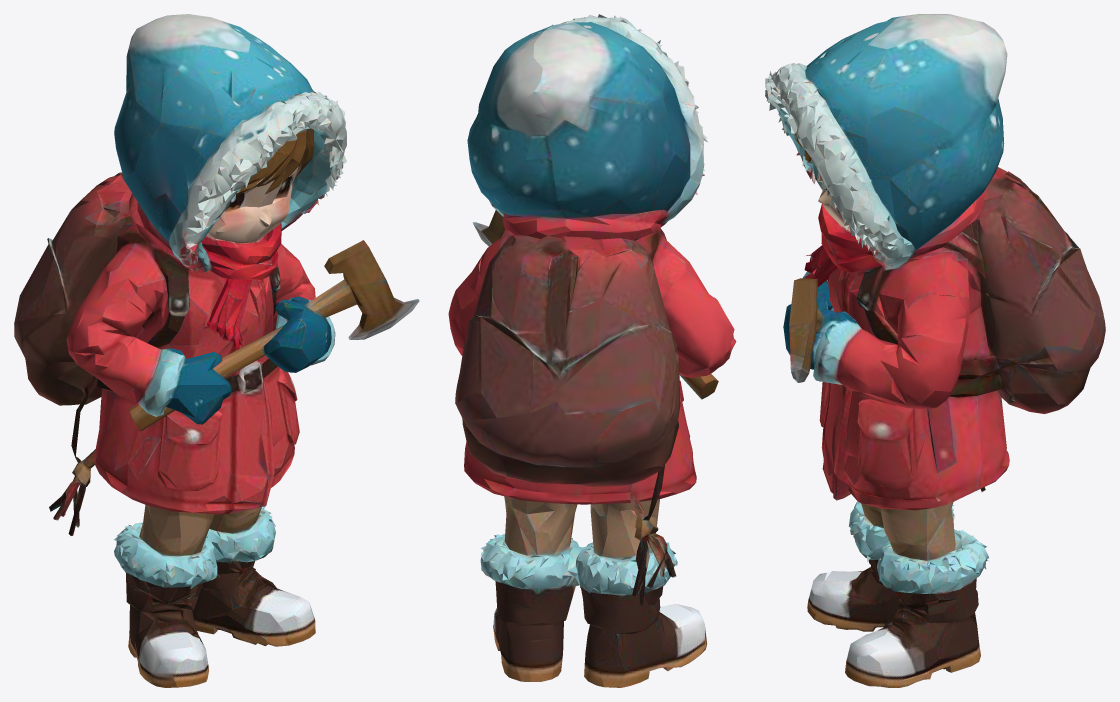
Rendered from hero.glb.
3 renders of one model, left to right at view 1: azimuth 30°, elevation 25°; view 2: azimuth 150°, elevation 25°; view 3: azimuth 270°, elevation 25°, orthographic. The views are drawn at different scales.
Size of the model in its own units: 0.9682 by 1.9 by 0.9384.
1 material, 1 textured.
